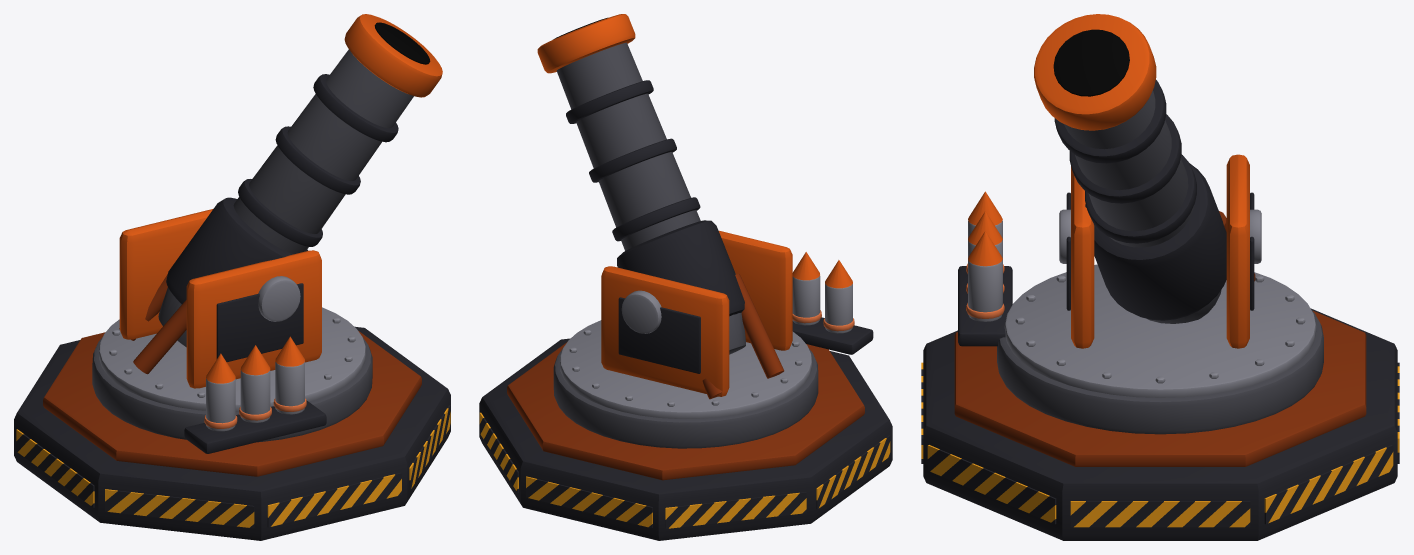
Rendered from Mortar.obj.
3 views of the same model, side by side, from view 1: azimuth 30°, elevation 25°; view 2: azimuth 150°, elevation 25°; view 3: azimuth 270°, elevation 25° (orthographic). The views are drawn at different scales.
Parts seen in each view (by area): view 1: Mortar; view 2: Mortar; view 3: Mortar.
Boxes of the visible parts, <box> form: Mortar: <box>14,14,450,540</box>; Mortar: <box>479,14,892,540</box>; Mortar: <box>921,14,1399,540</box>.
Bounding box in the file's own units: 1.23 × 1.39 × 1.23.
